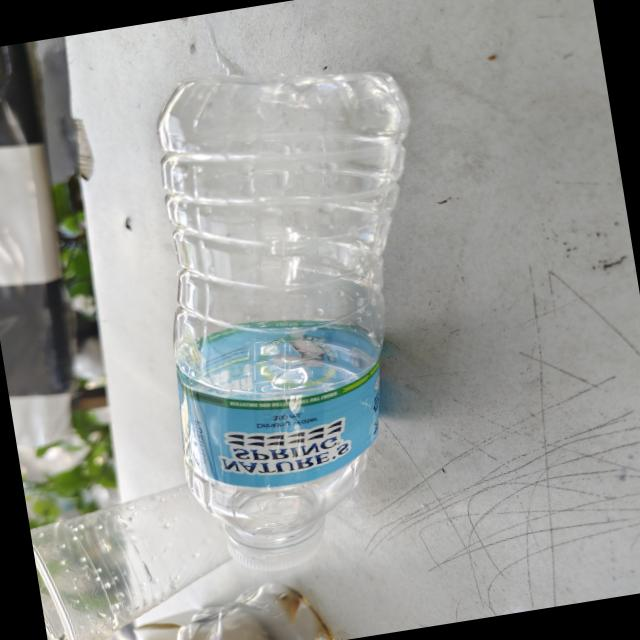Bottle: (157, 72, 409, 570)
